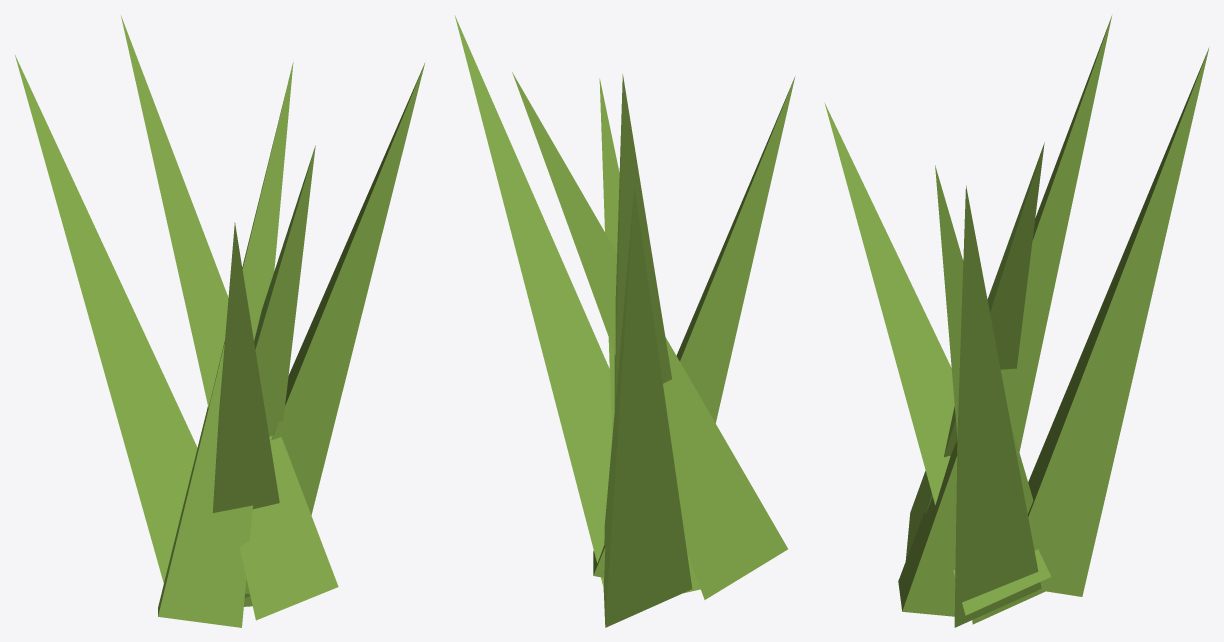
File: Grass_B.glb
3 views of the same model, side by side, from view 1: azimuth 30°, elevation 25°; view 2: azimuth 150°, elevation 25°; view 3: azimuth 270°, elevation 25° (orthographic). The views are drawn at different scales.
Parts seen in each view (by area): view 1: Grass_B; view 2: Grass_B; view 3: Grass_B.
Part boxes in pixels (left/top/right/bottom): Grass_B: left=15, top=16, right=425, bottom=627; Grass_B: left=454, top=15, right=795, bottom=627; Grass_B: left=824, top=16, right=1209, bottom=627.
Bounding box in the file's own units: 0.2689 × 0.4881 × 0.2969.
